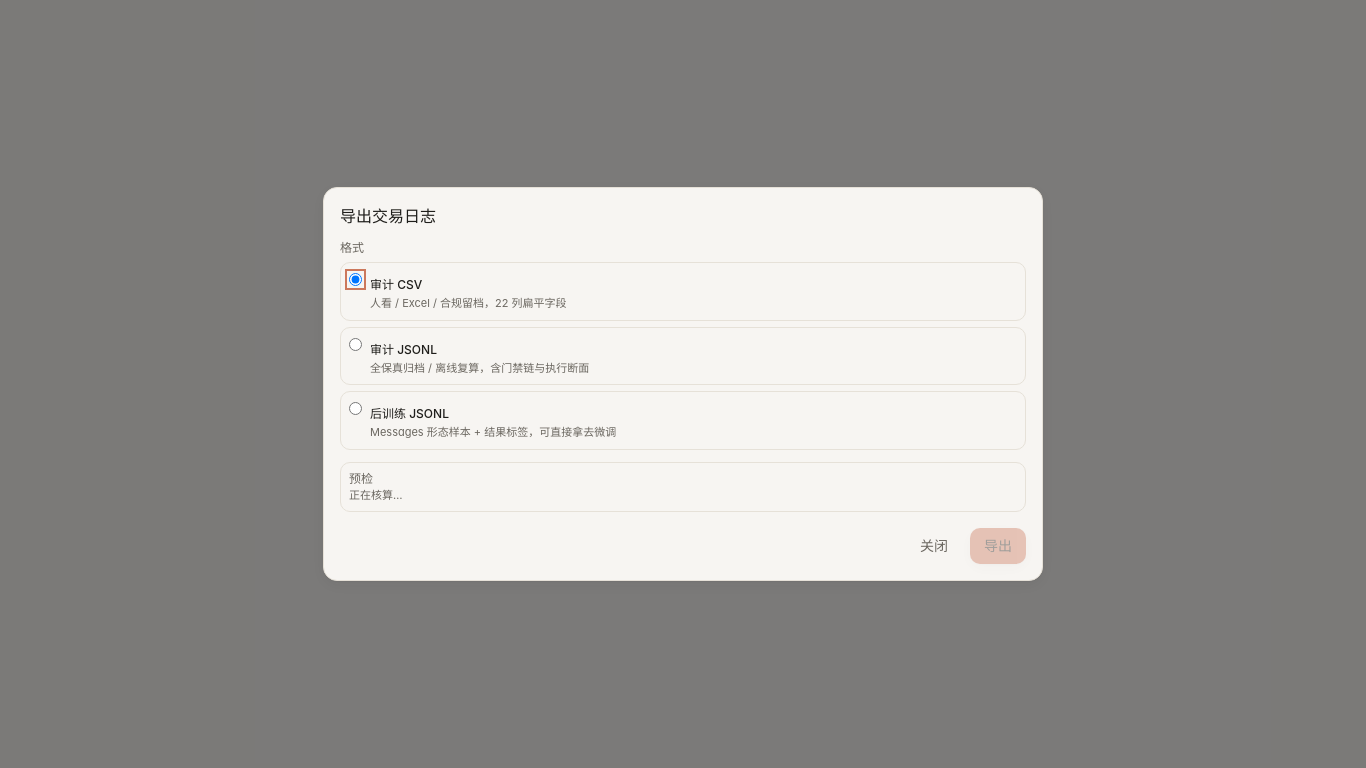
Test: JournalExportDialog › resolvedMinLinkConfidence 照抄回执并给出中文说明，前端不重算
The image size is (1366, 768).
Click the radio button labelled "后训练 JSONL Messages 形态样本 + 结果标签，可直接拿去微调".
click(356, 408)  # box [349,402,362,415]
Wait 500 ms
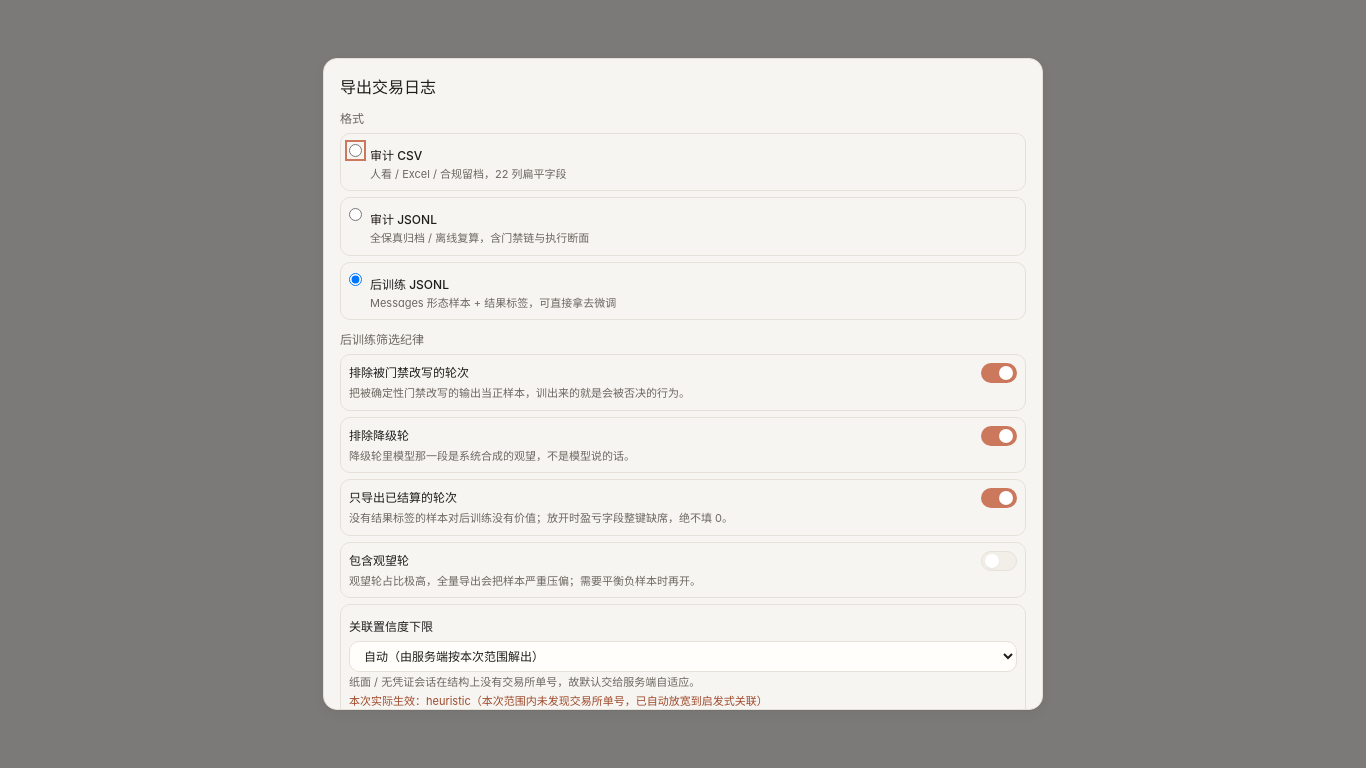
Result: the text "本次实际生效：heuristic（本次范围内未发现交易所单号，已自动放宽到启发式关联）" is shown at [349,694,768,708]
